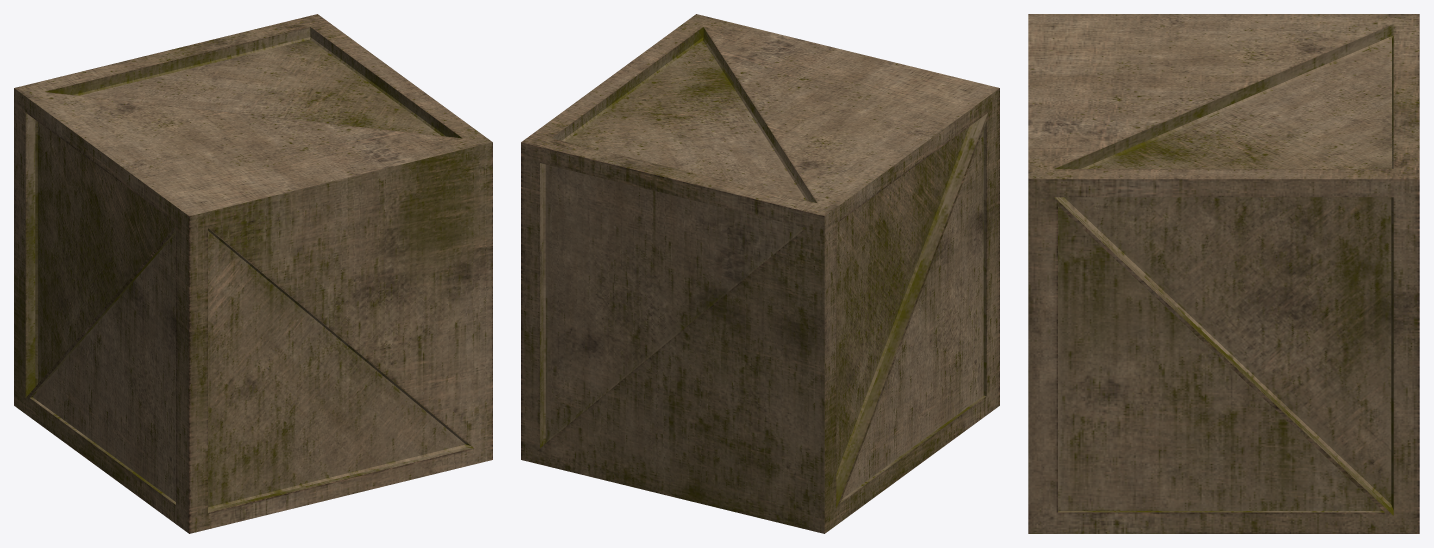
File: ThungGo1.fbx
3 views of the same model, side by side, from view 1: azimuth 30°, elevation 25°; view 2: azimuth 150°, elevation 25°; view 3: azimuth 270°, elevation 25° (orthographic). The views are drawn at different scales.
Parts seen in each view (by area): view 1: small box; view 2: small box; view 3: small box.
Part boxes in pixels (box(x1,y1,x2,y2)): small box: box(14, 14, 492, 533); small box: box(521, 14, 999, 533); small box: box(1028, 14, 1419, 533).
Bounding box in the file's own units: 105 × 105 × 105.
1 material, 1 textured.
